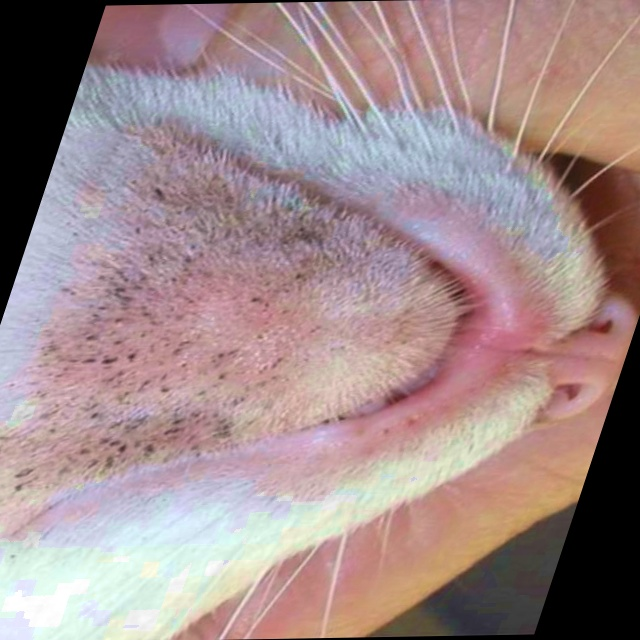acne: (0, 182, 384, 497)
